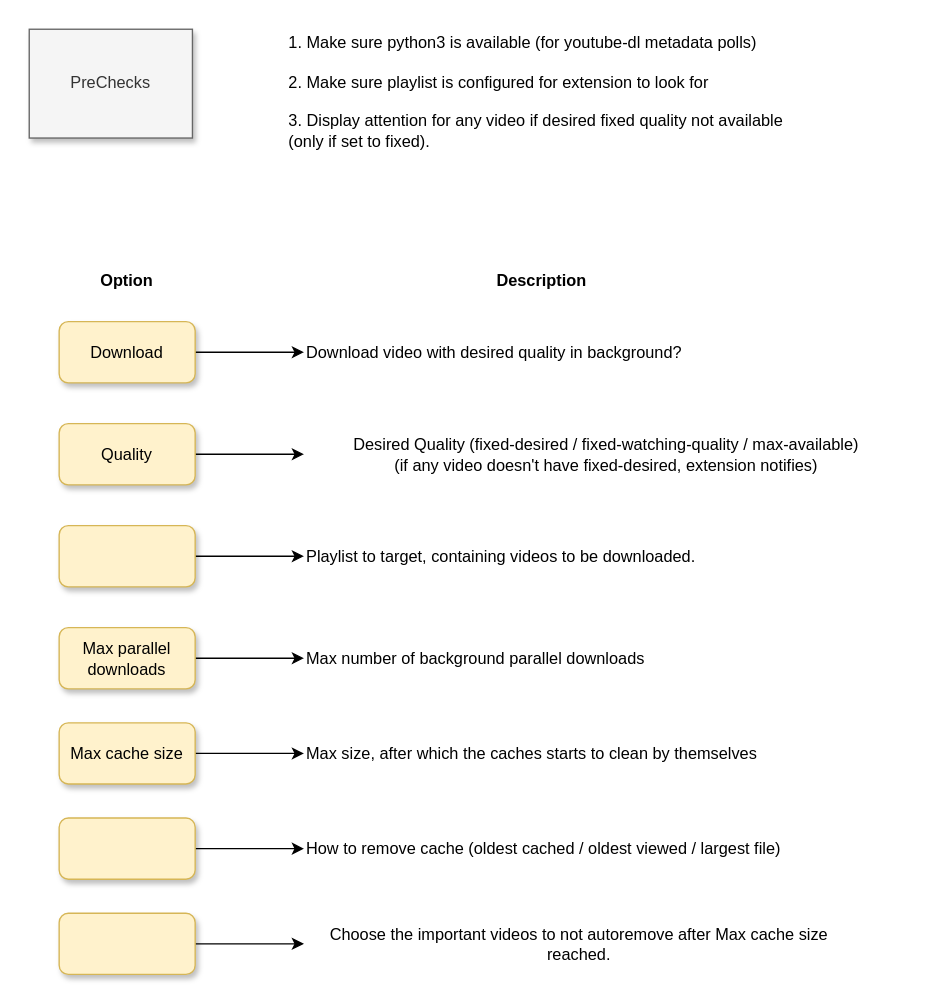
The diagram is 933 pixels wide and 1008 high, and some of its shapes have lost their labels. Here are the shapes that lost their labels. From the top down, the centre of each, then its label:
At (x=127, y=557): "Playlist".
At (x=127, y=850): "Cache removal strategy".
At (x=127, y=945): "Removal Blacklist".
